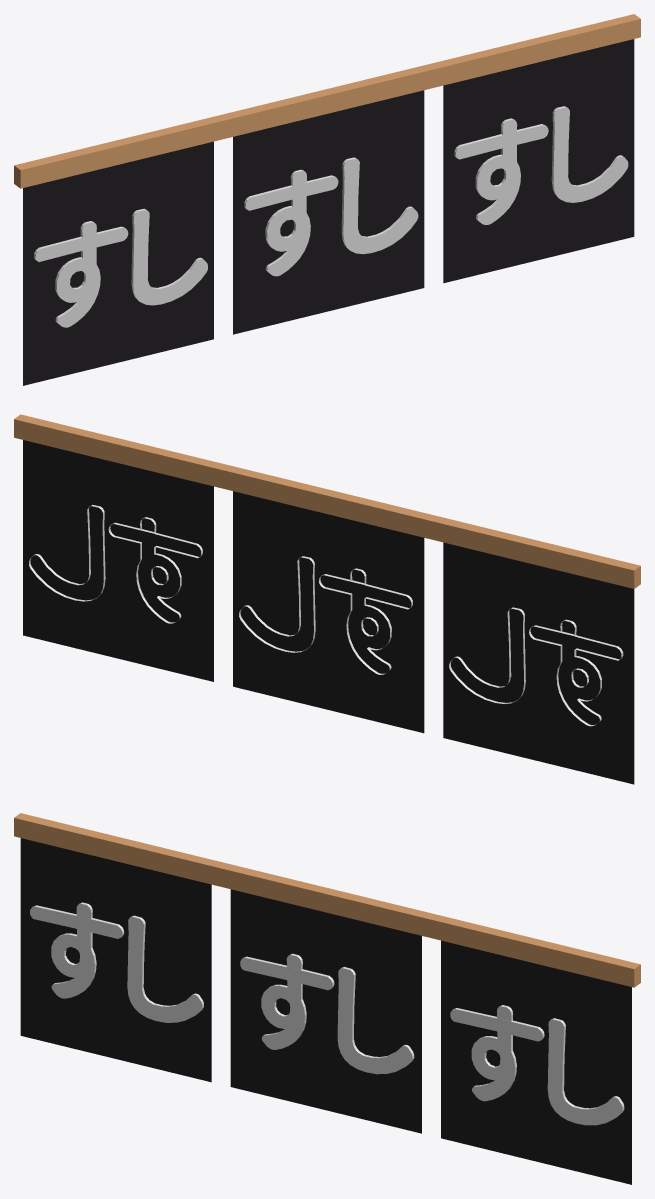
File: sign_1.glb
3 views of the same model, one above another, from view 1: azimuth 30°, elevation 25°; view 2: azimuth 150°, elevation 25°; view 3: azimuth 330°, elevation 25° (orthographic).
Visible parts, largest first — view 1: Decoration_Sign; view 2: Decoration_Sign; view 3: Decoration_Sign.
Boxes of the visible parts, left/top/right/bottom form: Decoration_Sign: left=14, top=14, right=640, bottom=385; Decoration_Sign: left=14, top=414, right=640, bottom=784; Decoration_Sign: left=14, top=813, right=640, bottom=1184.
Size of the model in its own units: 4.34 by 1.46 by 0.0802.
Materials: 1 (1 with a texture image).
